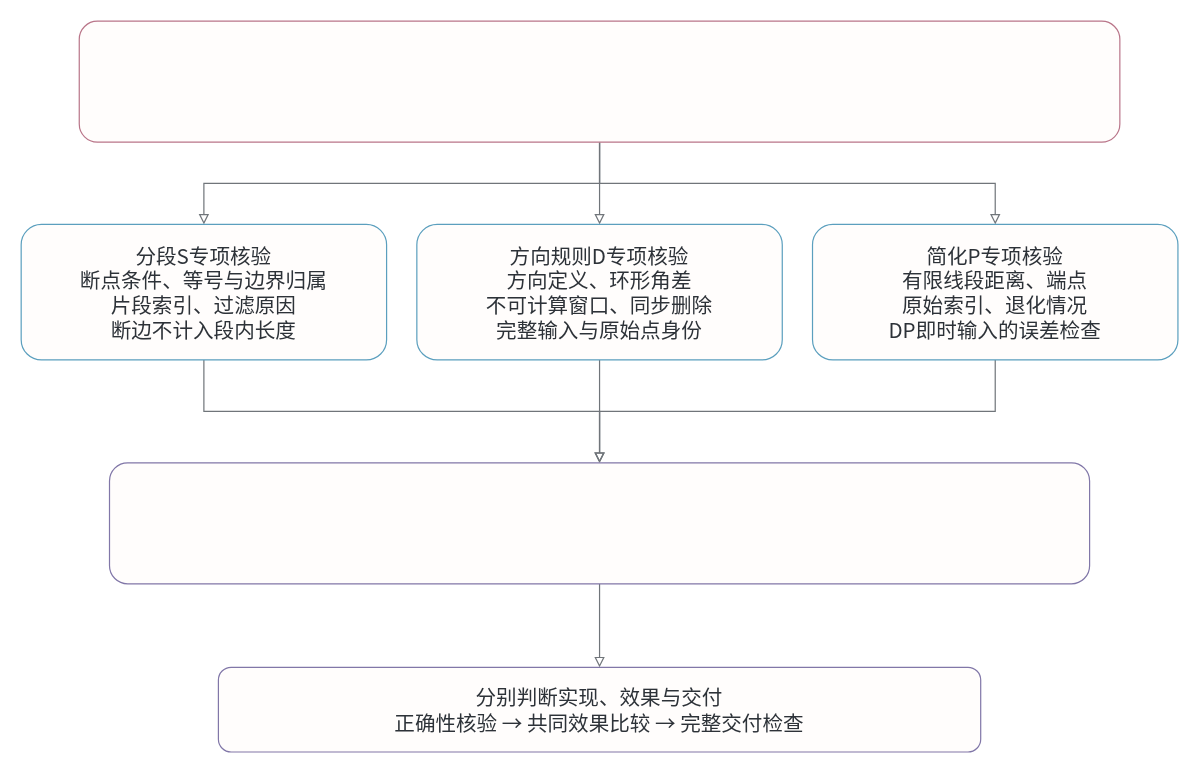
Image size: 1199x773. Some labels were removed from this diagram. The shapes that lost their labels are listed below. From the top down, each one's box as (x1, y1, x2, y2) in pixels, then its label:
(78, 20, 1120, 142): 共同入口 同一数据范围、独立原始参考、明确统计单位 固定主要指标、保护条件、预算和各数据分区用途
(108, 462, 1090, 584): 共同质量判断 覆盖与保真放在同一原始参考下比较 再检查保护条件、收益与代价
